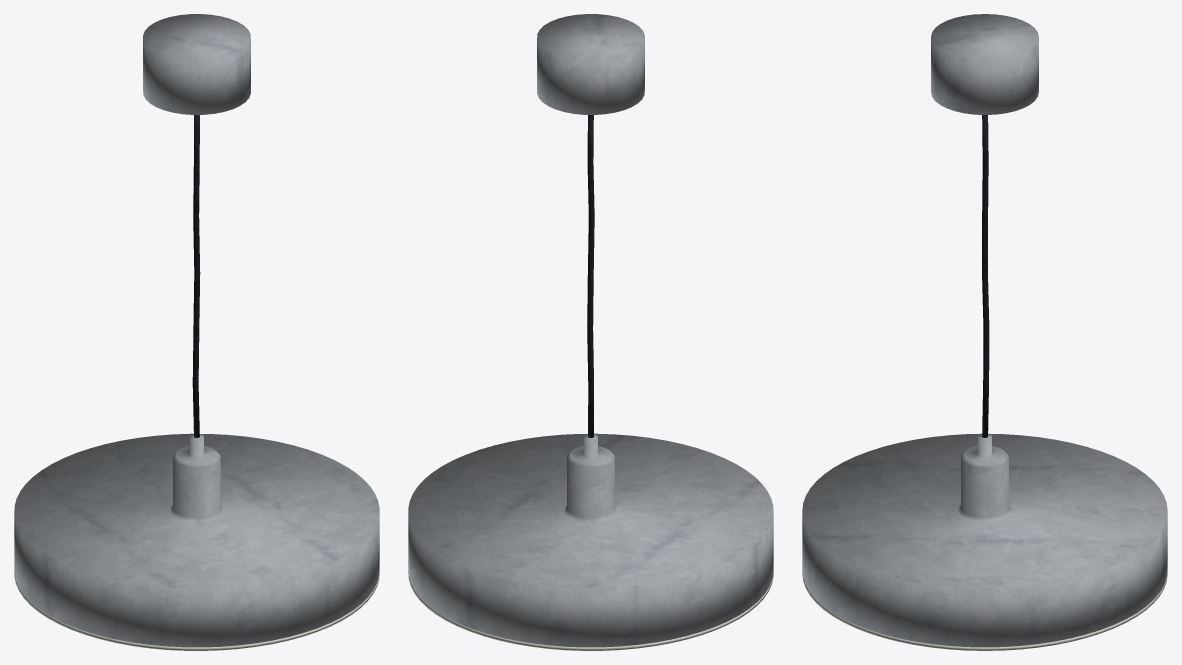
Rendered from ceilinglight.glb.
3 views of the same model, side by side, from view 1: azimuth 30°, elevation 25°; view 2: azimuth 150°, elevation 25°; view 3: azimuth 270°, elevation 25° (orthographic).
Visible parts, largest first — view 1: Lustre 47; view 2: Lustre 47; view 3: Lustre 47.
Boxes of the visible parts, x1,y1,x2,y2 form: Lustre 47: [14, 14, 379, 650]; Lustre 47: [408, 14, 773, 650]; Lustre 47: [802, 14, 1167, 650].
Size of the model in its own units: 0.38 by 0.6161 by 0.38.
Materials: 4 (2 with a texture image).
